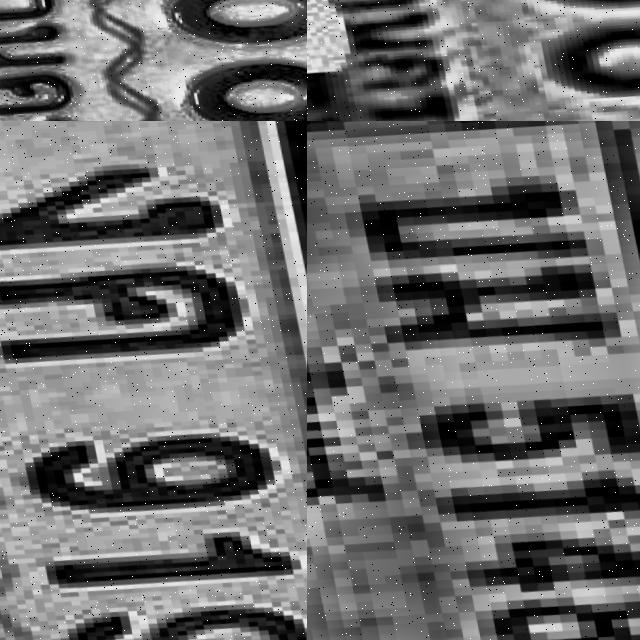license-plate: (307, 121, 640, 640), (0, 121, 307, 640), (307, 0, 640, 121), (0, 0, 307, 121)
